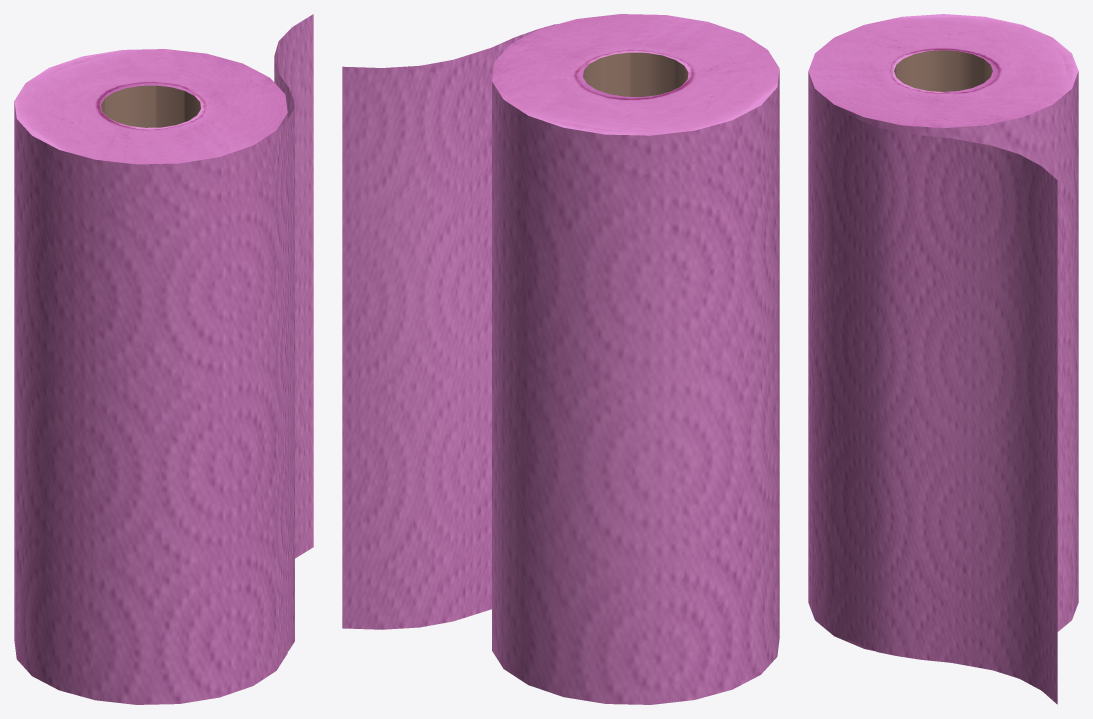
Rendered from kitchentowel.fbx.
3 renders of one model, left to right at view 1: azimuth 30°, elevation 25°; view 2: azimuth 150°, elevation 25°; view 3: azimuth 270°, elevation 25°, orthographic. The views are drawn at different scales.
Visible parts, largest first — view 1: pCylinder4; view 2: pCylinder4; view 3: pCylinder4.
Boxes of the visible parts, <box> form: pCylinder4: <box>14,14,313,704</box>; pCylinder4: <box>342,14,779,704</box>; pCylinder4: <box>808,14,1078,704</box>.
Size of the model in its own units: 7.79 by 11.85 by 5.46.
